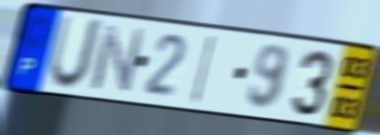2: (140, 32, 191, 100)
3: (290, 47, 336, 118)
9: (245, 42, 290, 113)
I: (189, 33, 219, 106)
N: (88, 22, 148, 96)
U: (45, 13, 106, 93)
